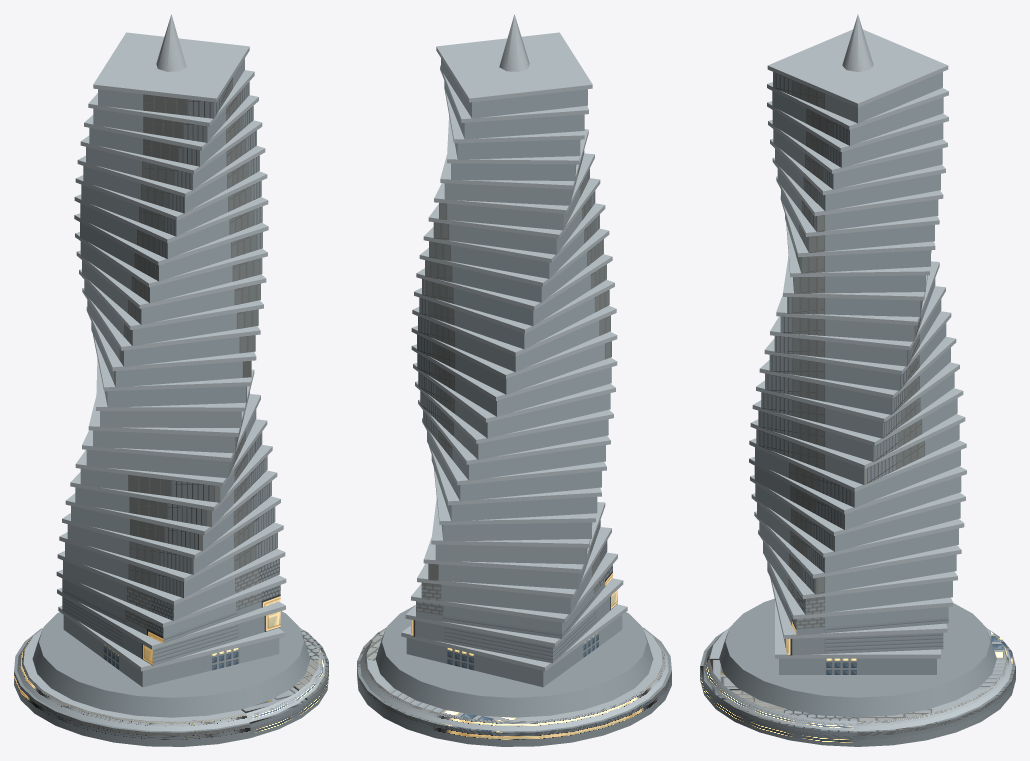
The model's file is tier-14-twisted-tower.glb.
The picture shows the model from 3 angles, left to right: view 1: azimuth 30°, elevation 25°; view 2: azimuth 150°, elevation 25°; view 3: azimuth 270°, elevation 25°; orthographic projection.
Visible parts, largest first — view 1: toon, gloss; view 2: toon, gloss; view 3: toon, gloss.
Part boxes in pixels (x1,y1,x2,y2): toon: (14, 58, 328, 746); gloss: (32, 14, 310, 717); toon: (357, 58, 671, 746); gloss: (375, 14, 653, 717); toon: (700, 72, 1015, 746); gloss: (719, 14, 996, 717).
Size of the model in its own units: 1 by 2.33 by 1.
2 materials, 1 textured.
